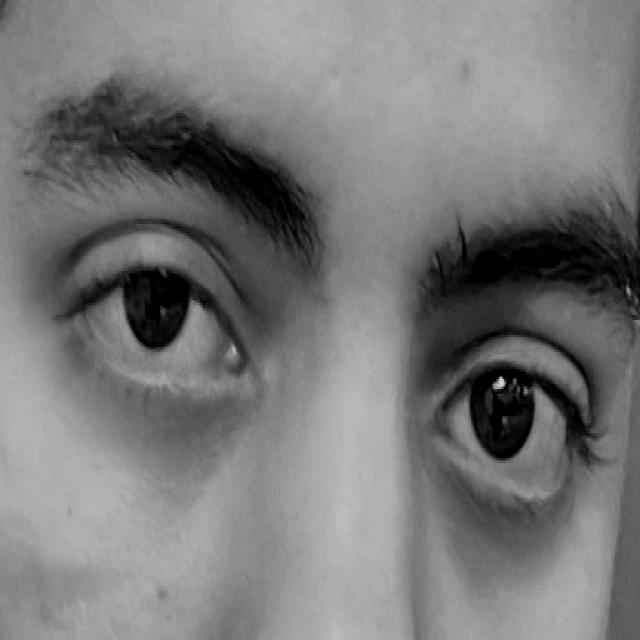real: (44, 142, 616, 580)
